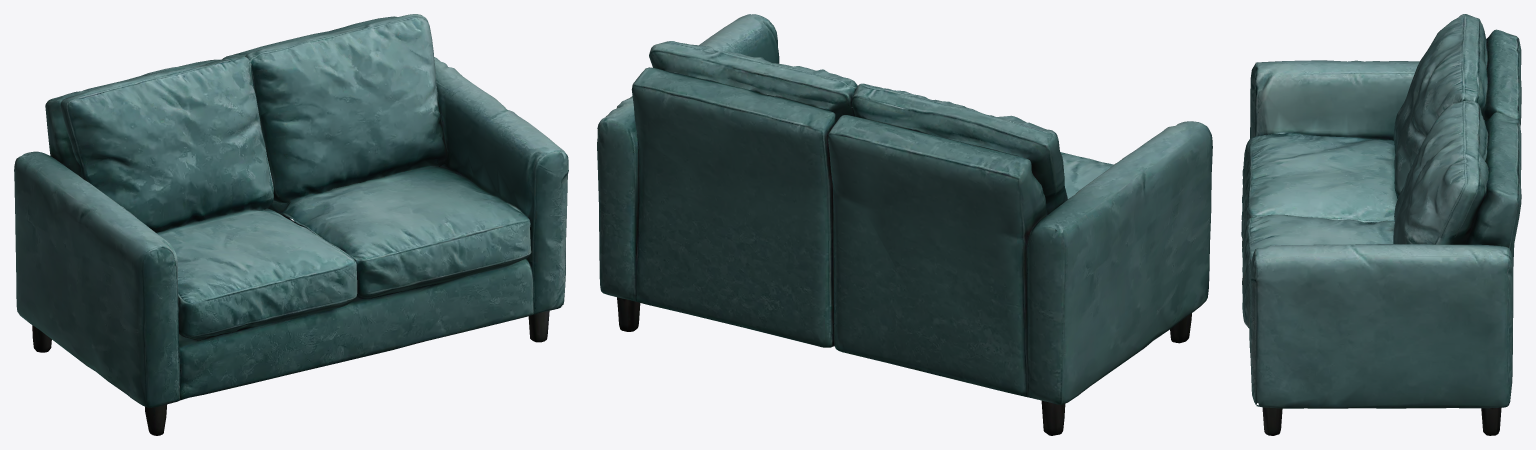
Rendered from sofa-BfnSPXXX.glb.
3 views of the same model, side by side, from view 1: azimuth 30°, elevation 25°; view 2: azimuth 150°, elevation 25°; view 3: azimuth 270°, elevation 25° (orthographic). The views are drawn at different scales.
Visible parts, largest first — view 1: tripo_node_20d318e2; view 2: tripo_node_20d318e2; view 3: tripo_node_20d318e2.
Boxes of the visible parts, x1,y1,x2,y2 form: tripo_node_20d318e2: (14, 14, 568, 435); tripo_node_20d318e2: (597, 14, 1212, 435); tripo_node_20d318e2: (1241, 14, 1521, 435).
Bounding box in the file's own units: 97.94 × 56.18 × 57.2.
Materials: 1 (1 with a texture image).
